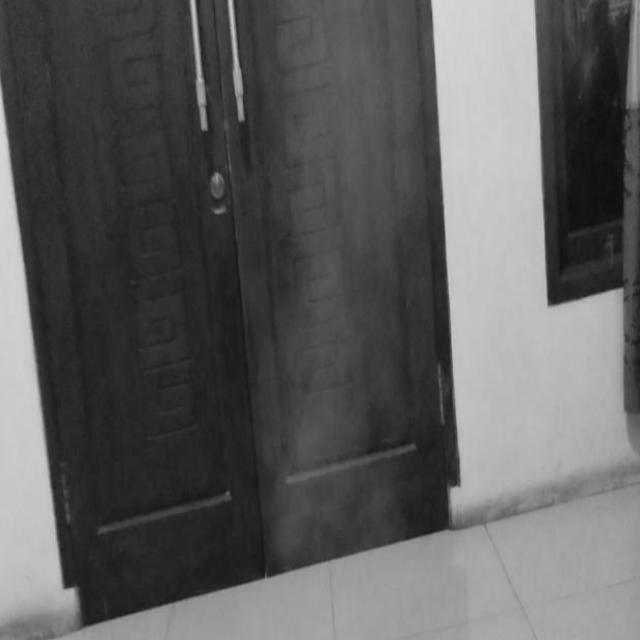fire: (261, 0, 420, 553)
